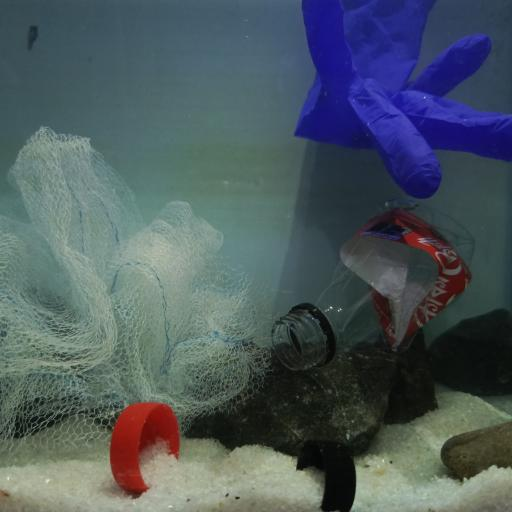bottle_cap: (110, 400, 181, 490), (298, 438, 355, 512)
glove: (293, 0, 512, 199)
net: (0, 125, 276, 460)
plastic_bottle: (270, 197, 477, 372)
